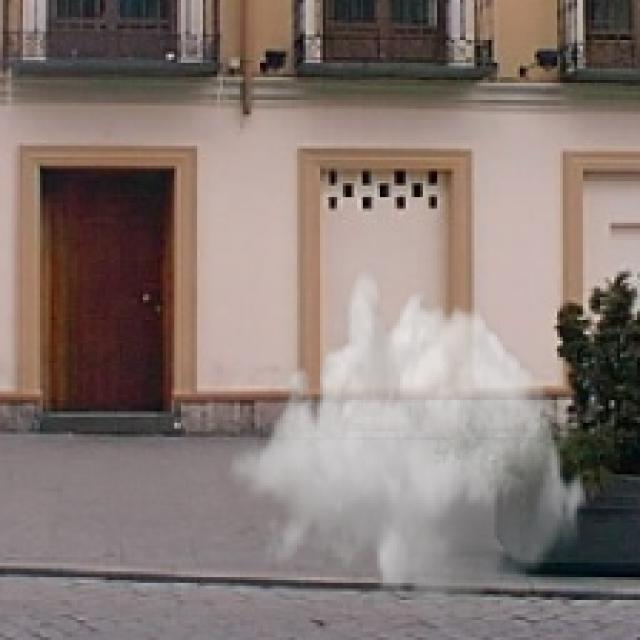Smoke: (228, 262, 592, 634)
